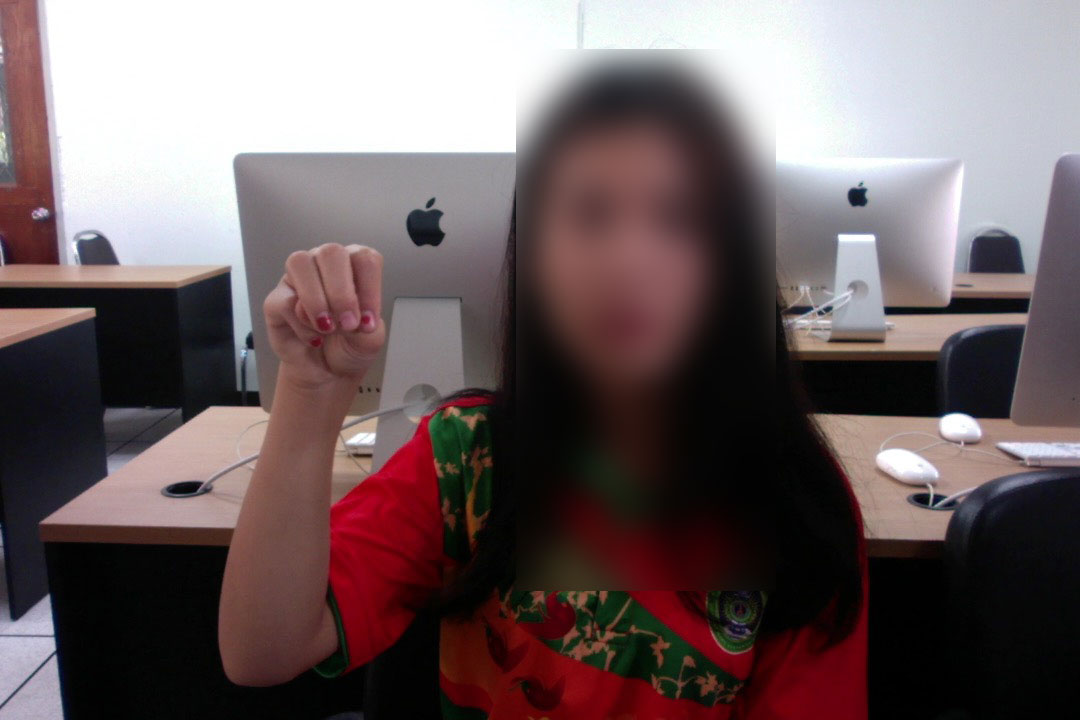mor: (255, 227, 393, 405)
